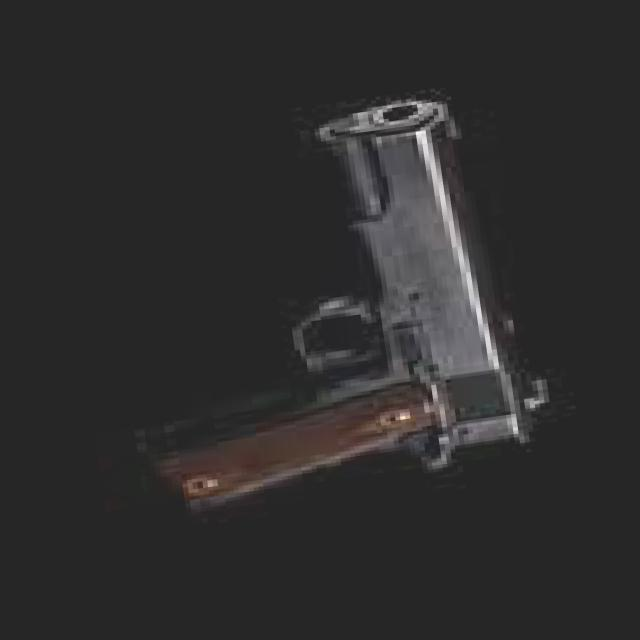handgun: (103, 82, 561, 511)
